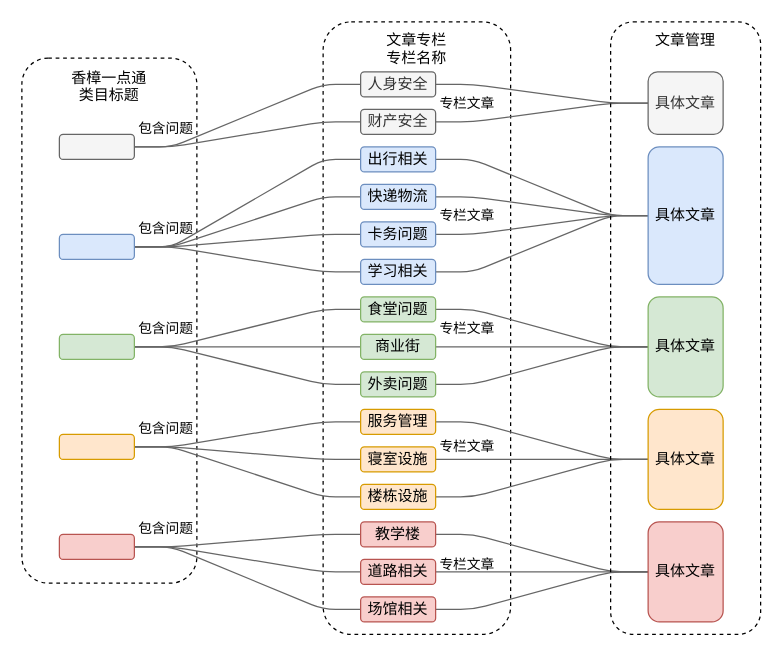
The diagram is 783 pixels wide and 656 high, and some of its shapes have lost their labels. Here are the shapes that lost their labels. From the top down, the centre of each, then its label:
pixel 96 146: 安全服务
pixel 96 246: 个人生活
pixel 96 346: 膳食服务
pixel 96 446: 寝室服务
pixel 96 546: 基础设施
